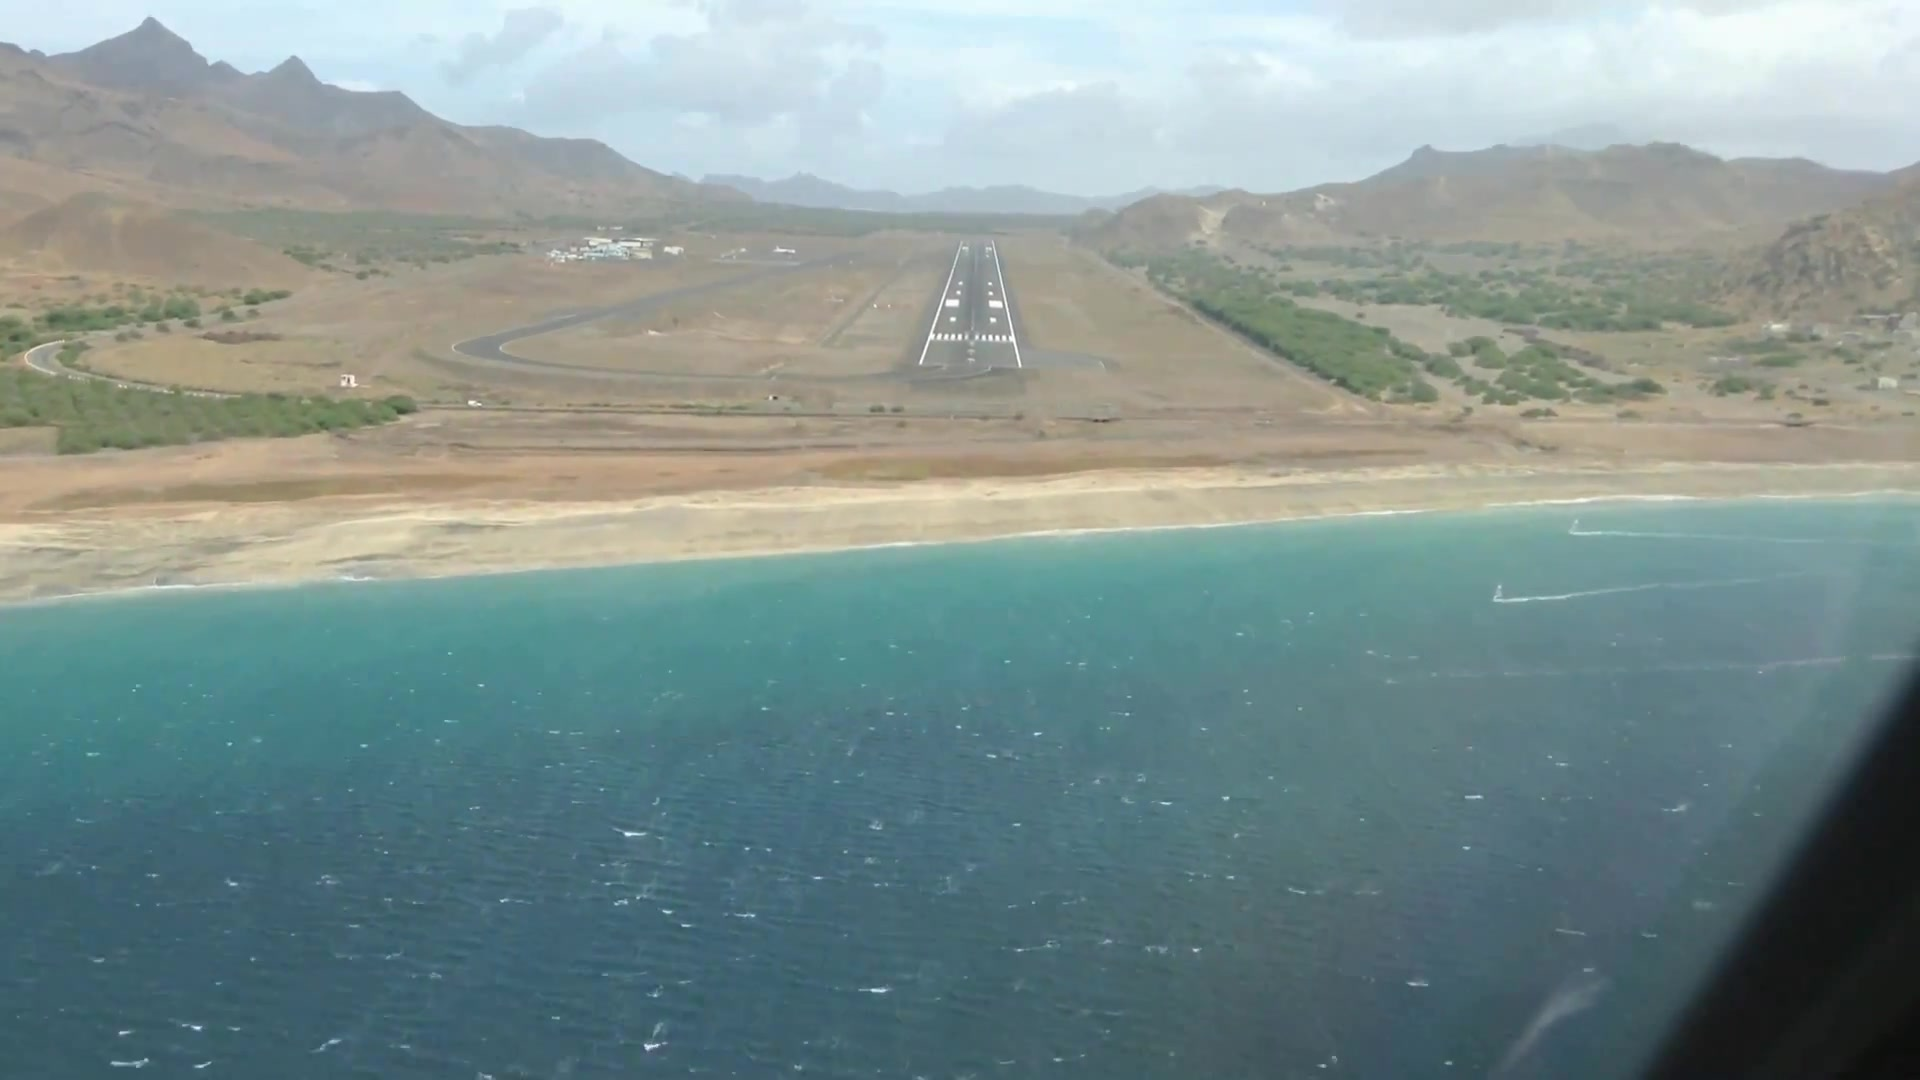entrance: (927, 334, 1015, 343)
runway: (918, 237, 1022, 371)
